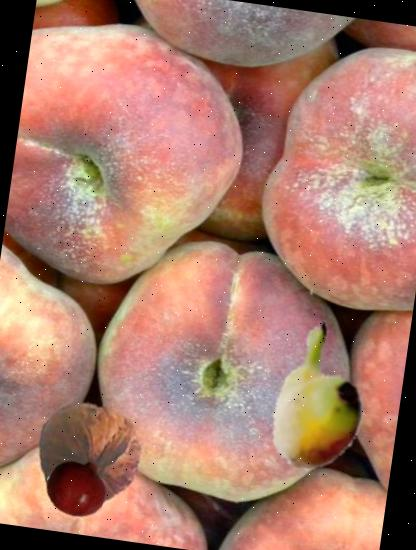Banana: (241, 316, 408, 482)
Pomegranate: (43, 453, 112, 522)
Walnut: (28, 393, 149, 514)
